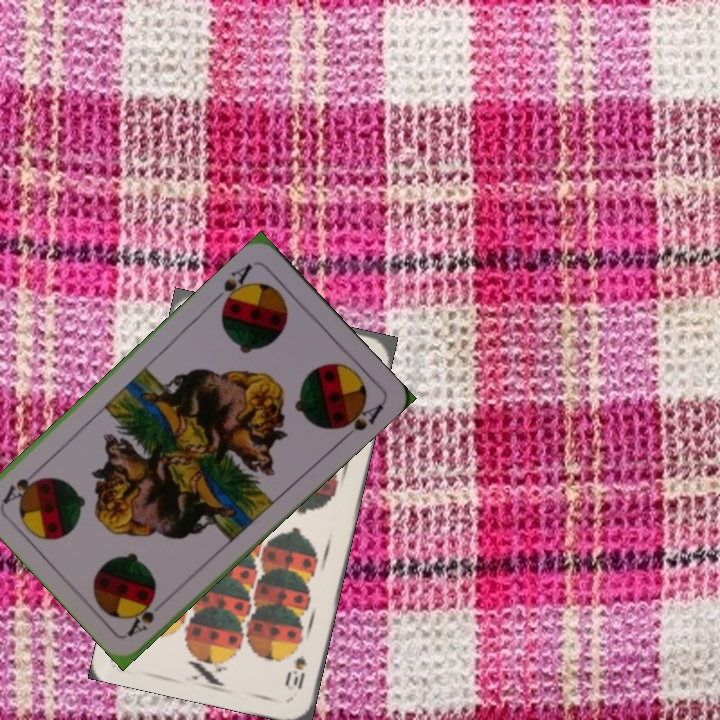S10: (284, 651, 310, 693)
SA: (209, 259, 255, 312), (123, 593, 159, 639)
